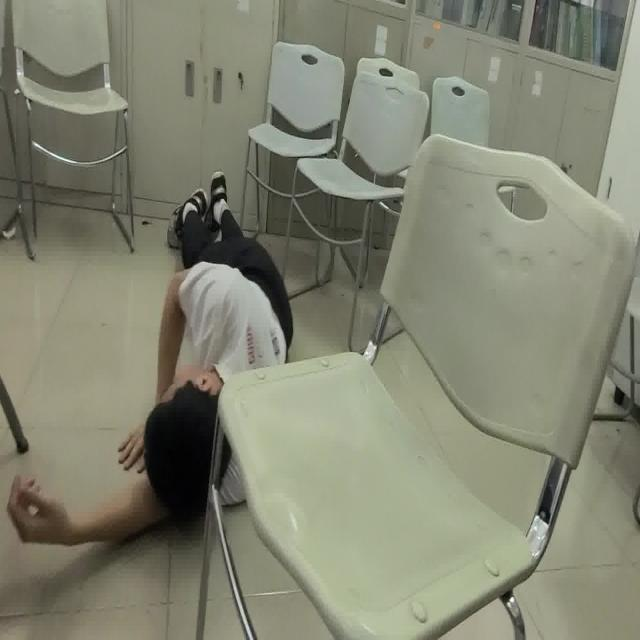Fall-Detected: (6, 174, 292, 547)
